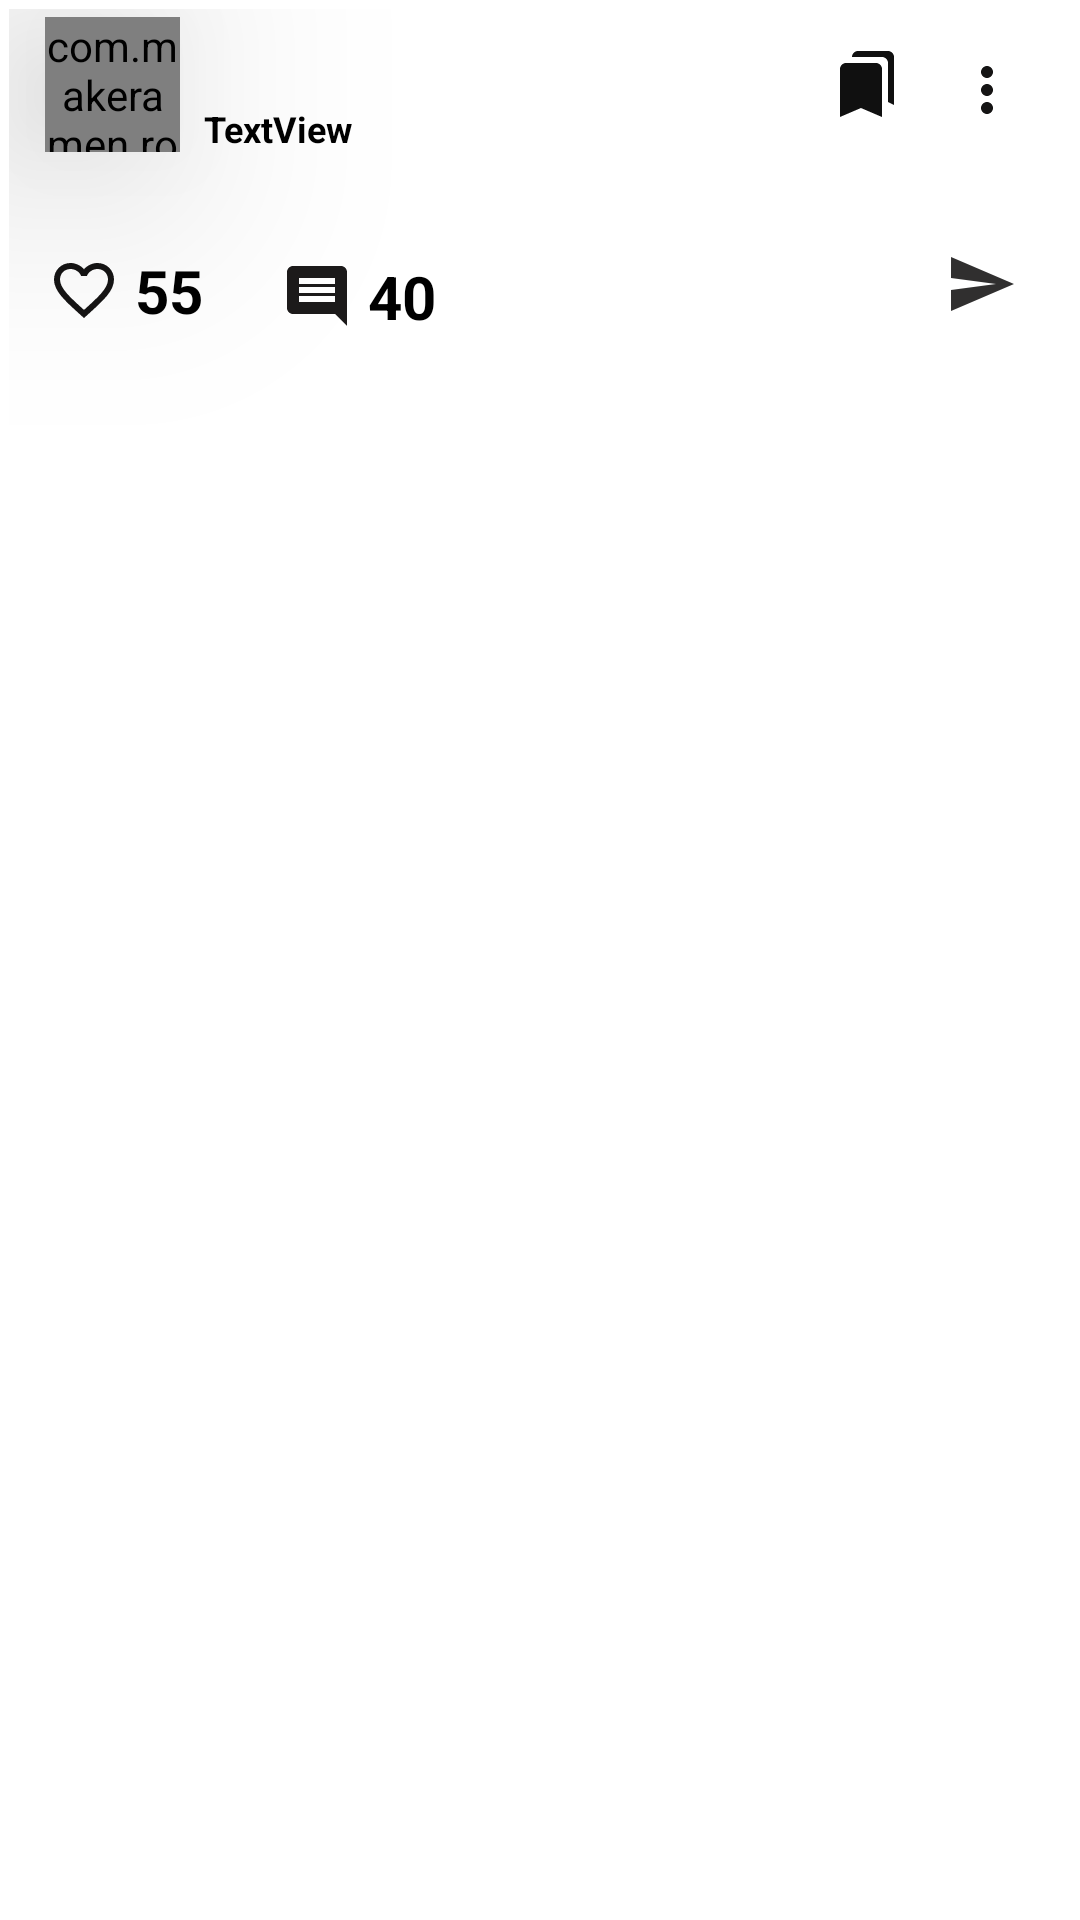

Named icons in this screenshot (1080px×1920px) and their bounding boxes, box(x1, y1, x2, y2):
bookmark: box(840, 51, 894, 117)
more: box(981, 66, 993, 114)
